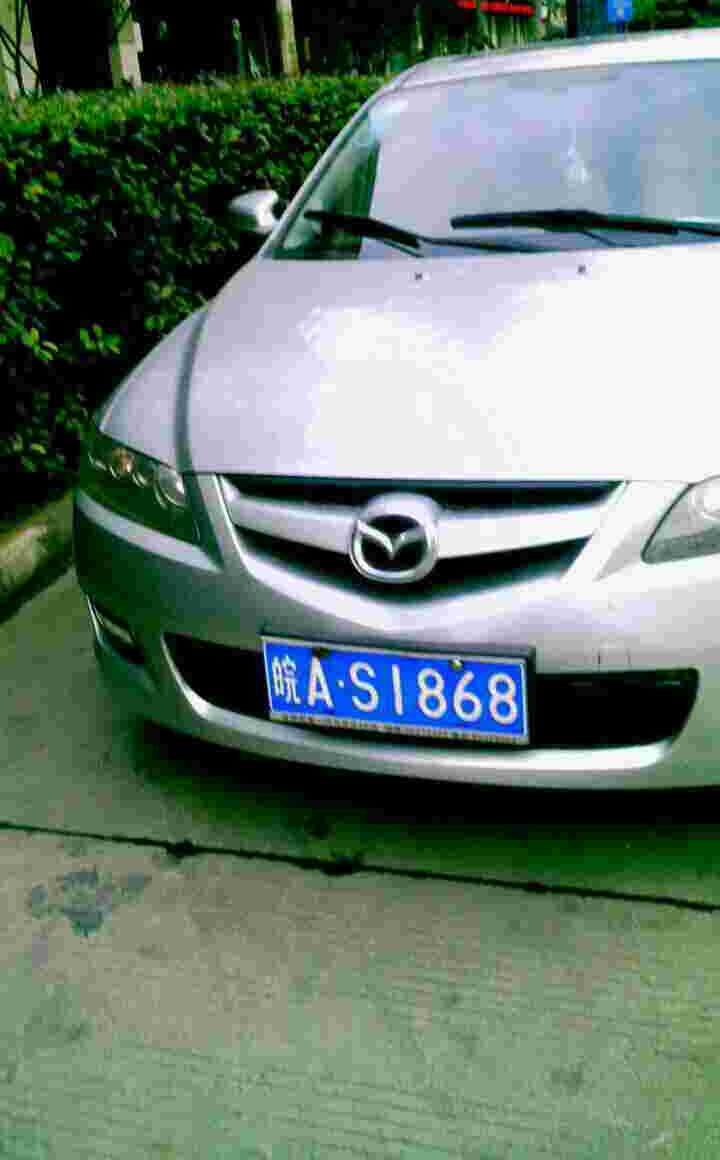car: (255, 629, 529, 732)
